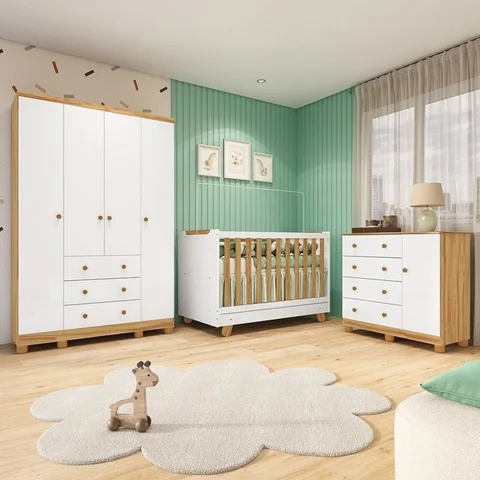crib: (178, 230, 329, 335)
